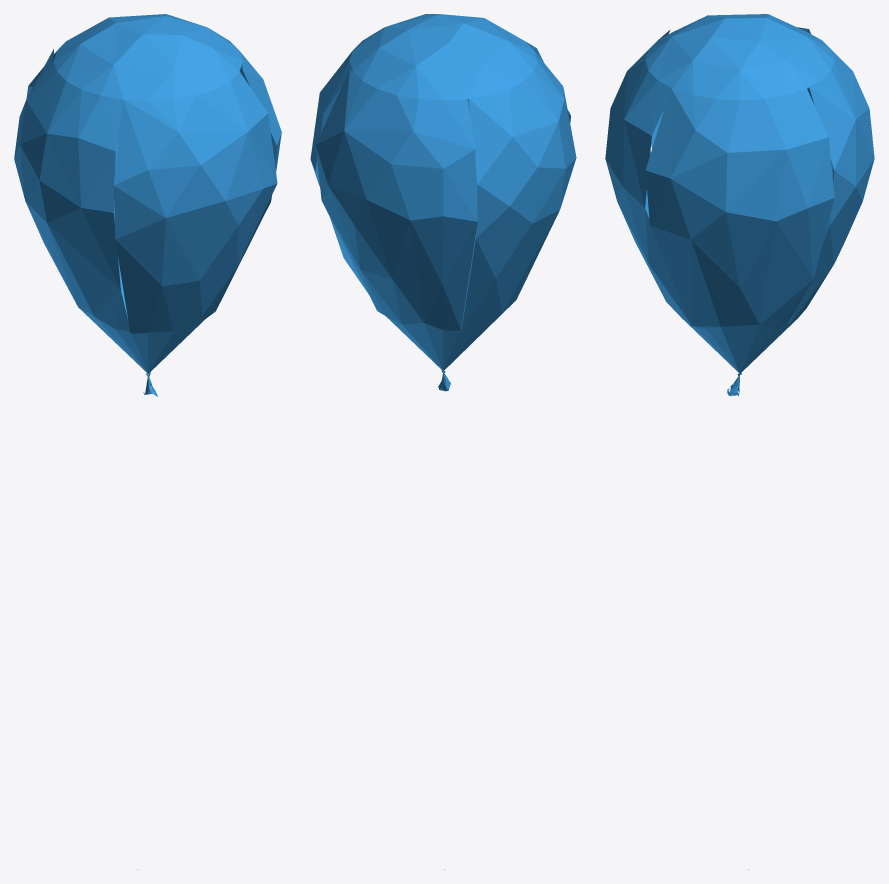
Rendered from globo_azul.obj.
The picture shows the model from 3 angles, left to right: view 1: azimuth 30°, elevation 25°; view 2: azimuth 150°, elevation 25°; view 3: azimuth 270°, elevation 25°; orthographic projection.
Parts seen in each view (by area): view 1: globo:Mesh; view 2: globo:Mesh; view 3: globo:Mesh.
Part boxes in pixels (x1=…): globo:Mesh: x1=14, y1=14, x2=281, y2=869; globo:Mesh: x1=310, y1=14, x2=576, y2=869; globo:Mesh: x1=605, y1=14, x2=874, y2=869.
Bounding box in the file's own units: 0.0318 × 0.1102 × 0.0317.
